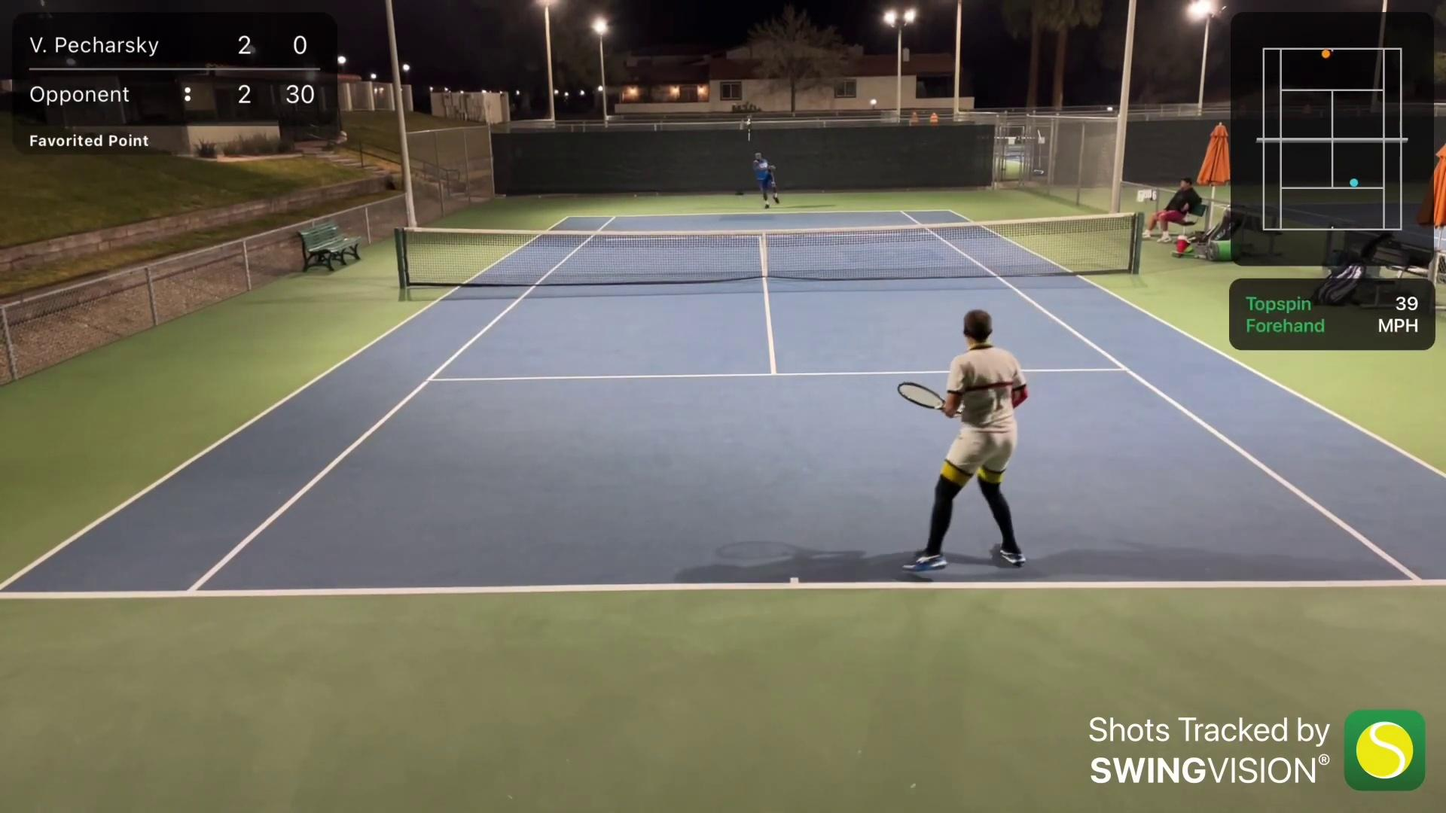ball: (744, 120, 752, 128), (633, 192, 642, 199)
